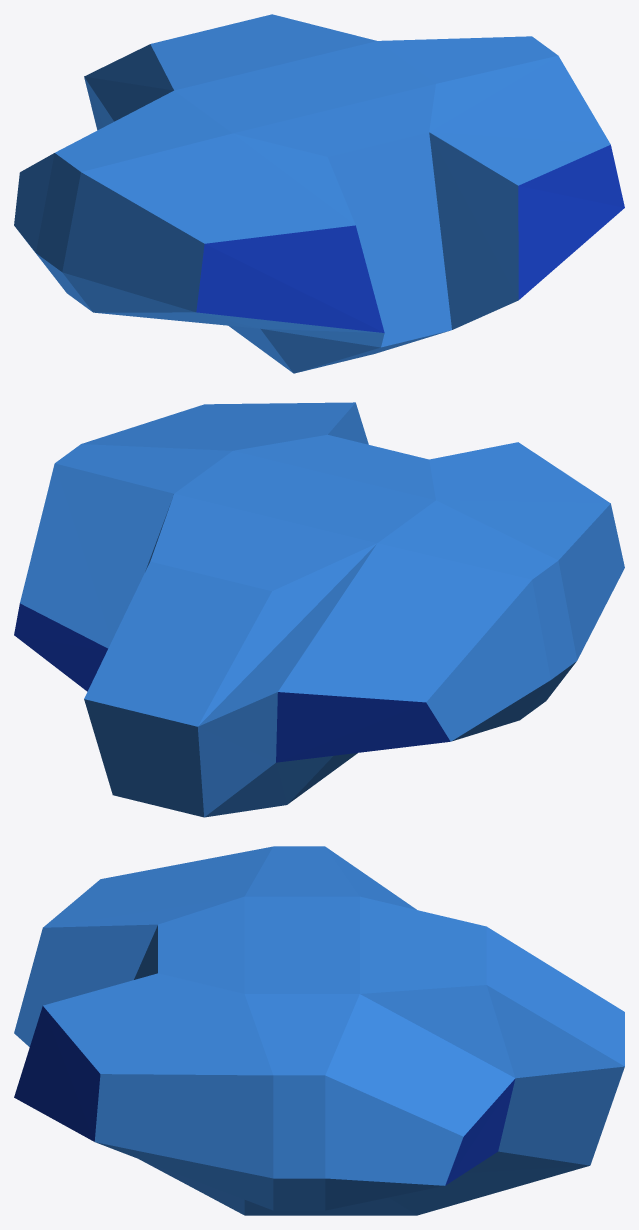
The model's file is Body.FBX.
3 views of the same model, one above another, from view 1: azimuth 30°, elevation 25°; view 2: azimuth 150°, elevation 25°; view 3: azimuth 270°, elevation 25° (orthographic).
Visible parts, largest first — view 1: VIFS001, VIFS002; view 2: VIFS001, VIFS002; view 3: VIFS001, VIFS002.
Part boxes in pixels (x1,y1,x2,y2): VIFS001: [14, 14, 610, 373]; VIFS002: [196, 144, 624, 332]; VIFS001: [20, 402, 624, 817]; VIFS002: [14, 603, 450, 762]; VIFS001: [14, 846, 624, 1215]; VIFS002: [14, 1006, 515, 1185].
Size of the model in its own units: 1.01 by 0.48 by 1.06.
